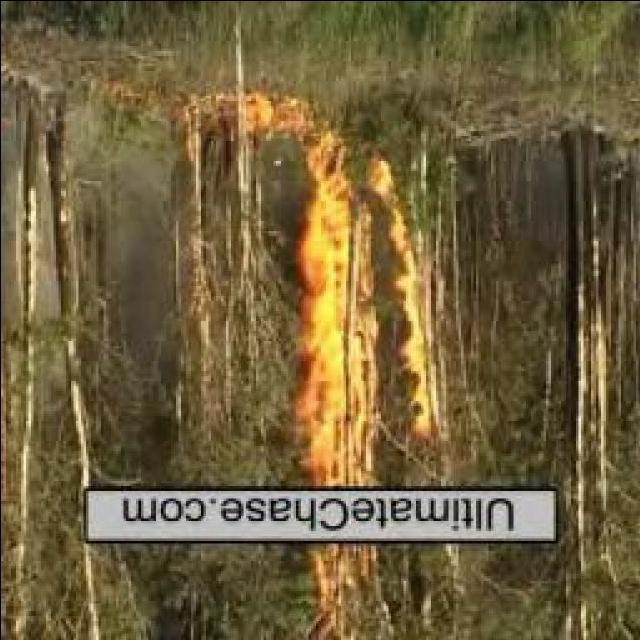Fire: (289, 145, 446, 485), (310, 545, 378, 623), (235, 91, 332, 138)
